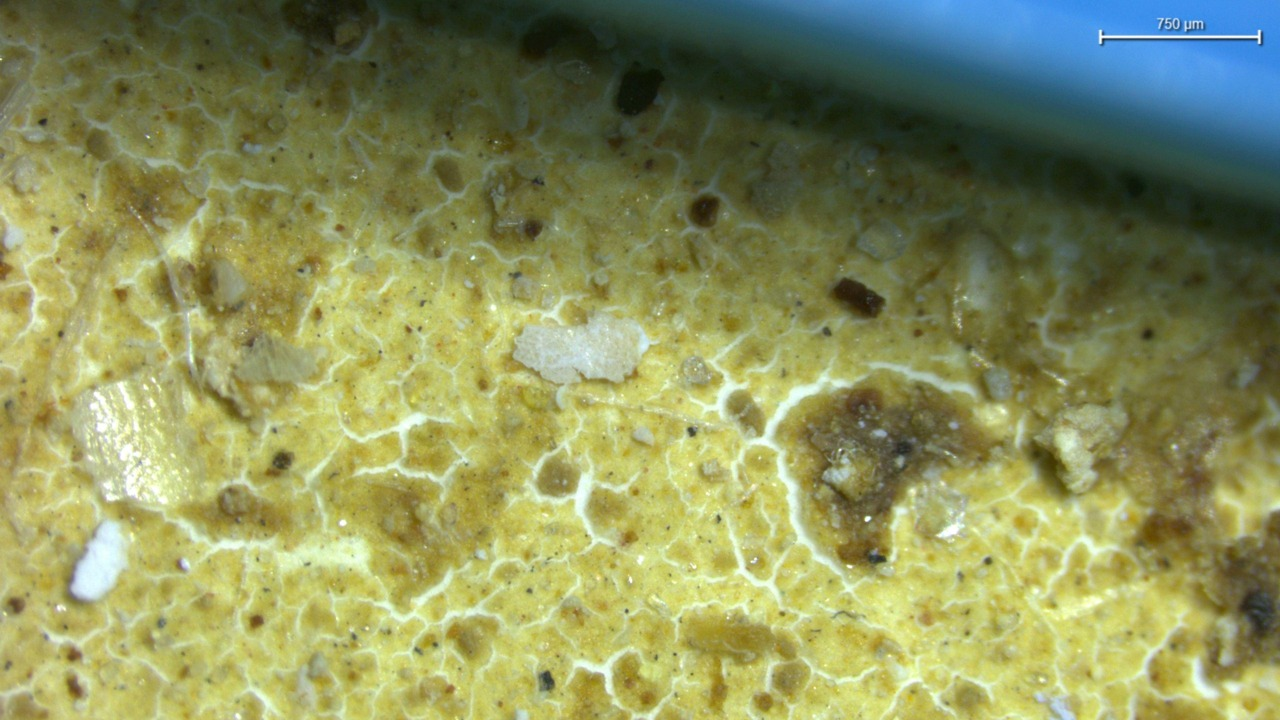microplastic_fragment: (513, 312, 650, 384), (1035, 403, 1128, 493), (70, 519, 128, 602), (857, 219, 907, 261)
